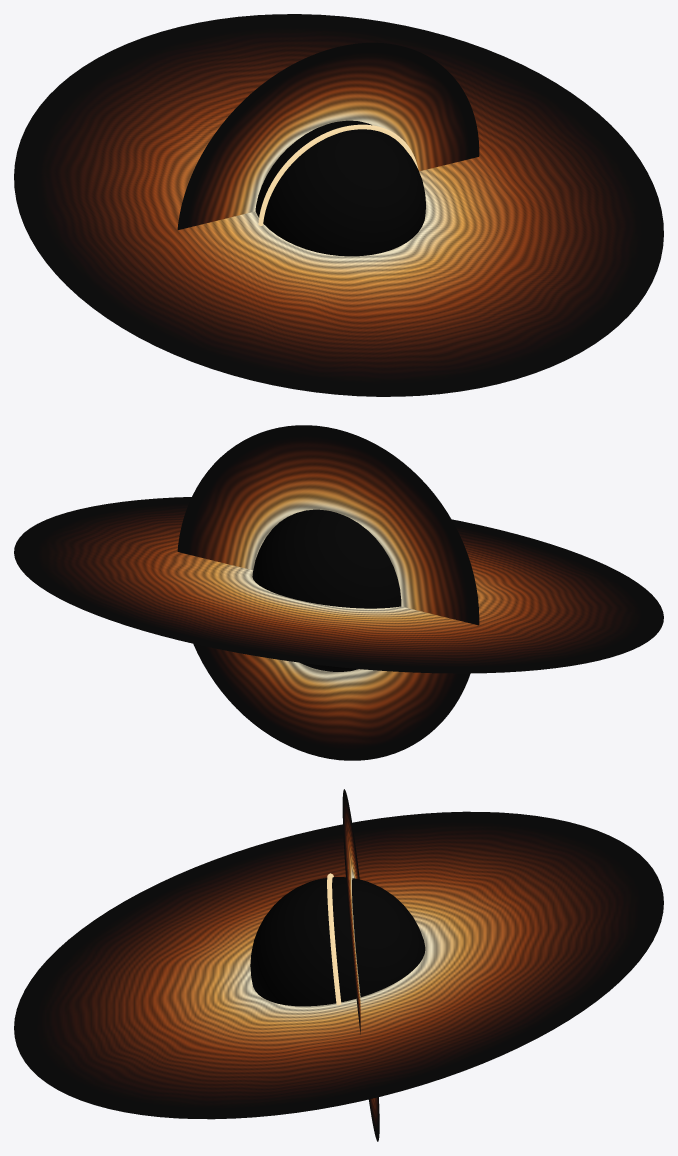
The model's file is blackhole.glb.
3 views of the same model, one above another, from view 1: azimuth 30°, elevation 25°; view 2: azimuth 150°, elevation 25°; view 3: azimuth 270°, elevation 25° (orthographic).
Parts seen in each view (by area): view 1: spin, body; view 2: body, spin; view 3: spin, body.
Part boxes in pixels (<box>): spin: <box>14,14,663,396</box>; body: <box>177,42,479,256</box>; body: <box>177,425,479,760</box>; spin: <box>14,497,663,673</box>; spin: <box>14,811,663,1119</box>; body: <box>250,789,425,1141</box>.
Bounding box in the file's own units: 1 × 0.5304 × 0.9781.
Materials: 4 (2 with a texture image).
